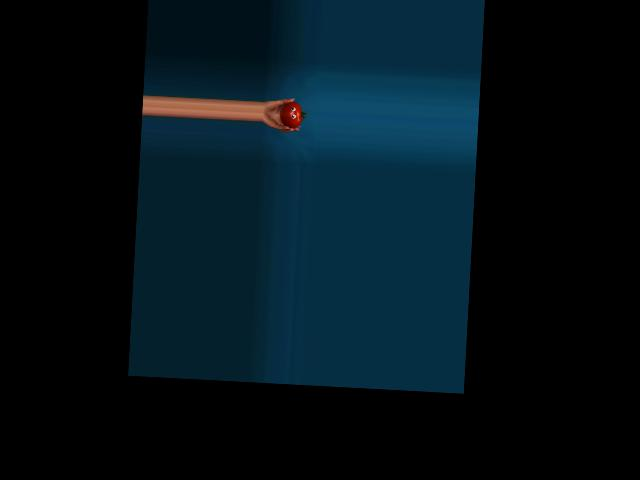tomato: (279, 100, 303, 128)
